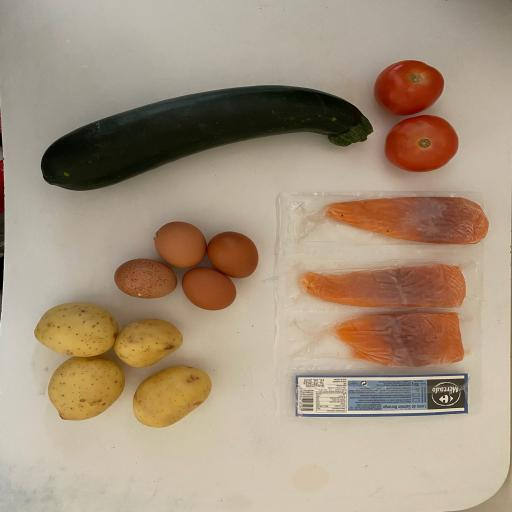courgette: (36, 79, 380, 194)
egg: (109, 257, 180, 302), (179, 265, 242, 313), (204, 230, 263, 280), (151, 219, 208, 269)
potato: (45, 354, 129, 424), (130, 362, 216, 430), (30, 298, 121, 360), (111, 316, 189, 370)
salmon: (322, 193, 490, 250), (294, 260, 471, 313), (332, 308, 472, 370)
tomato: (383, 113, 463, 175), (371, 58, 448, 116)
